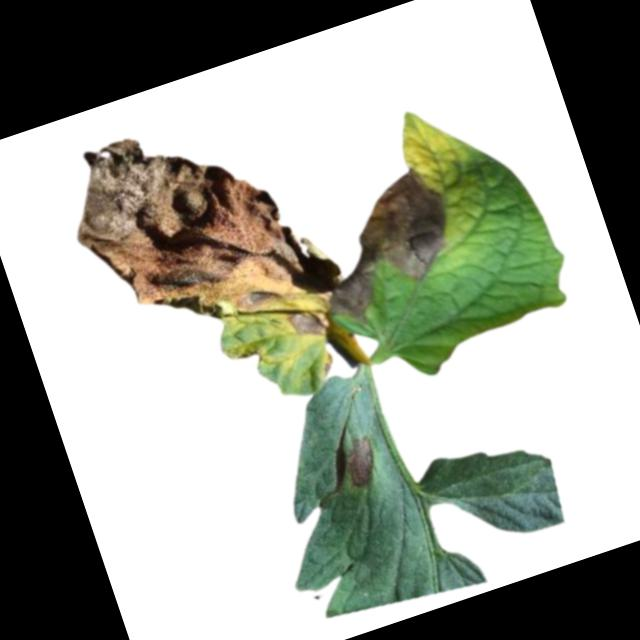Early_blight: (50, 98, 310, 358), (299, 163, 472, 326), (338, 433, 383, 490), (287, 306, 327, 345), (317, 352, 337, 376)
